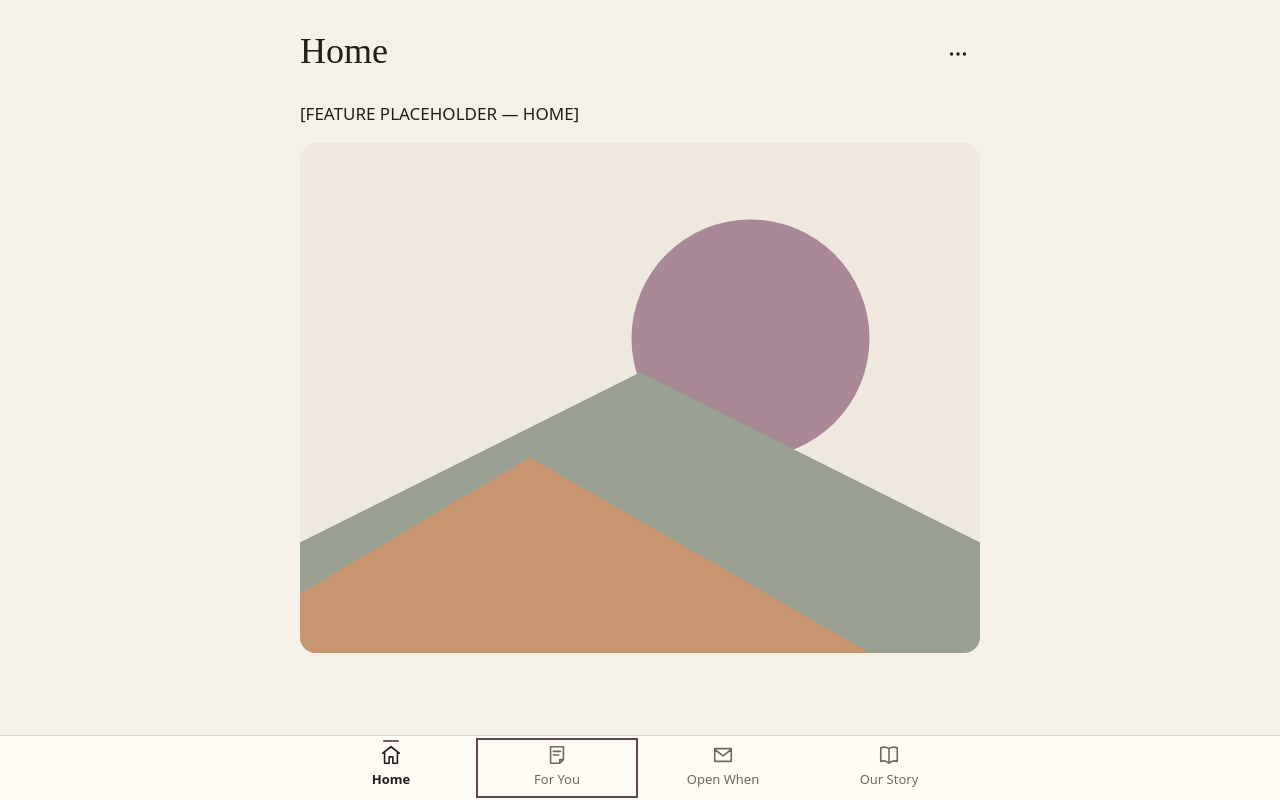
application shell and primary navigation › updates route content and current state while retaining focus on the persistent navigation
The width and height of the screenshot is (1280, 800).
Click the link "For You" at (557, 766), box top-left (534, 744), bottom-right (580, 788)
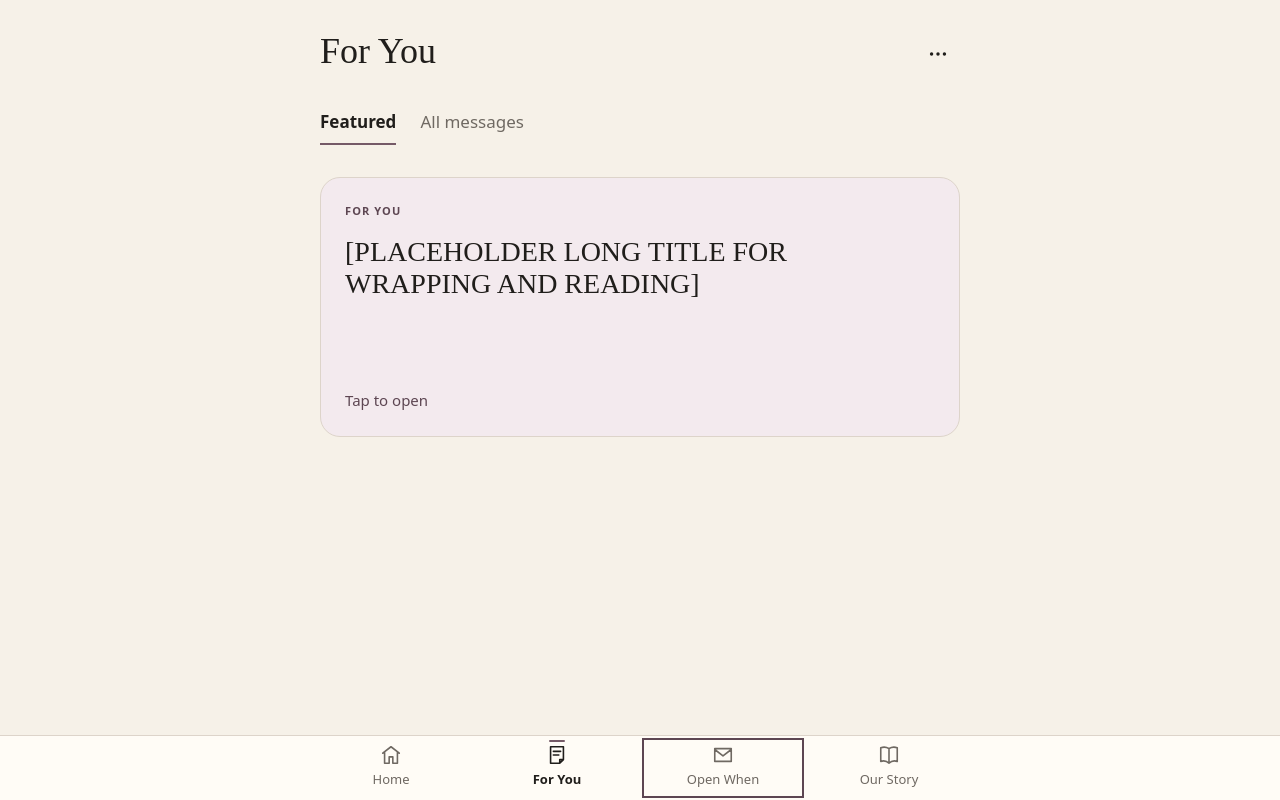
Expected: the heading "For You" is shown, top-left (320, 31), bottom-right (436, 71)
Click the link "Open When" at (723, 766), box top-left (687, 744), bottom-right (759, 788)
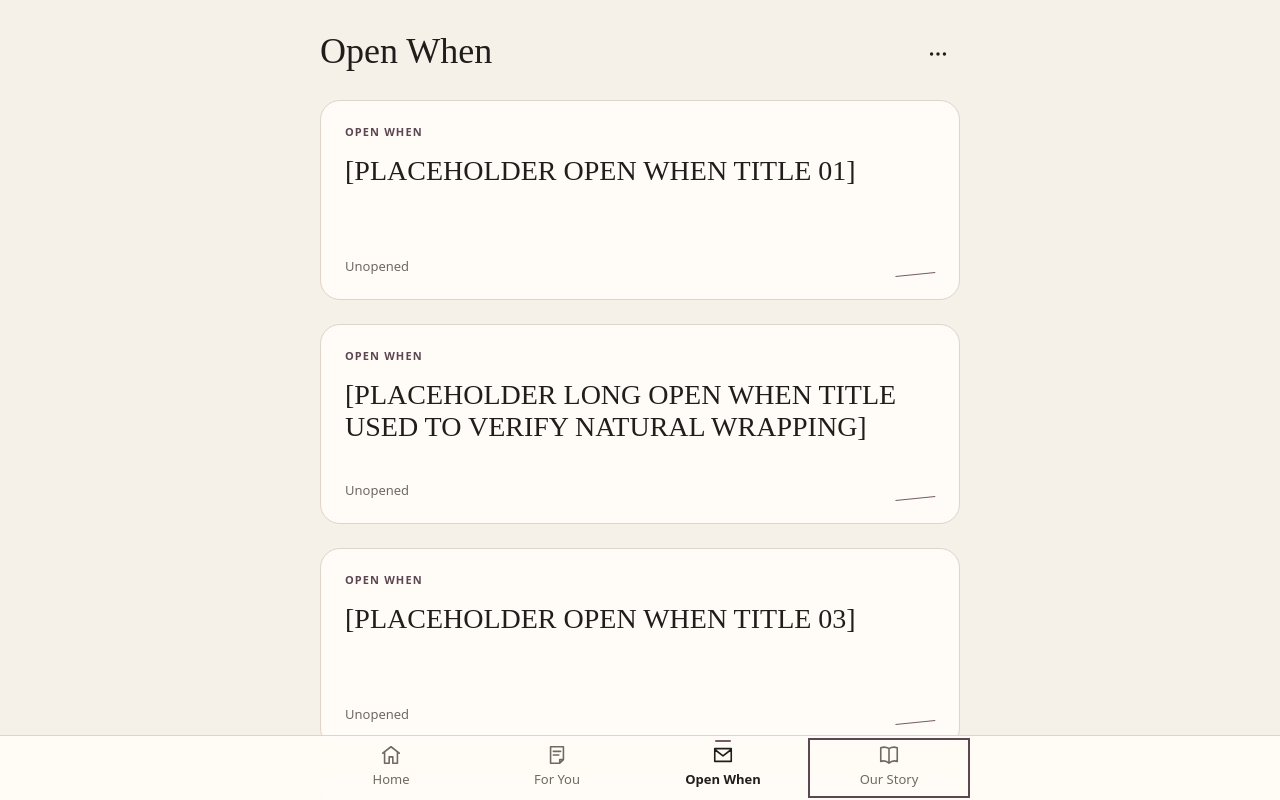
Expected: the heading "Open When" is shown, top-left (320, 31), bottom-right (492, 71)
Click the link "Our Story" at (889, 766), box top-left (860, 744), bottom-right (918, 788)
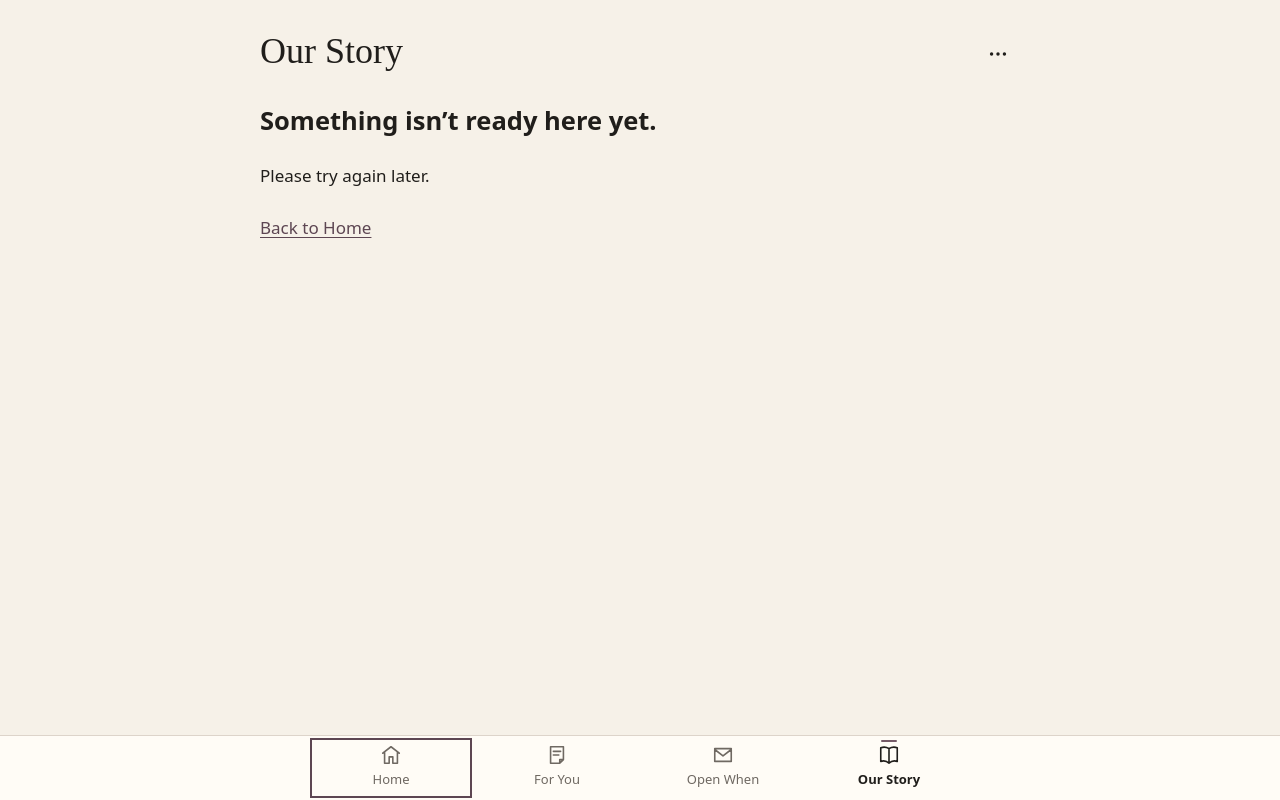
Expected: the heading "Our Story" is shown, top-left (260, 31), bottom-right (403, 71)
Click the link "Home" at (391, 766), box top-left (372, 744), bottom-right (410, 788)
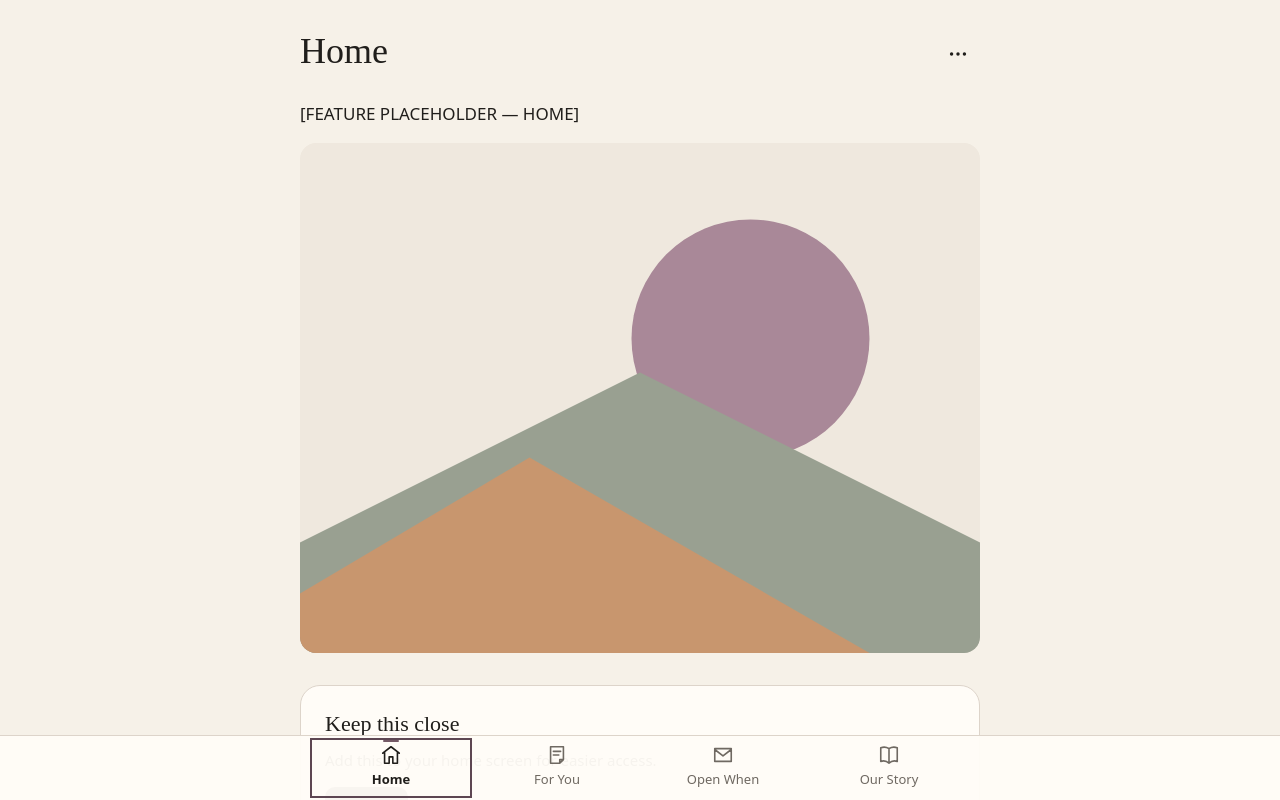
Expected: the heading "Home" is shown, top-left (300, 31), bottom-right (388, 71)
